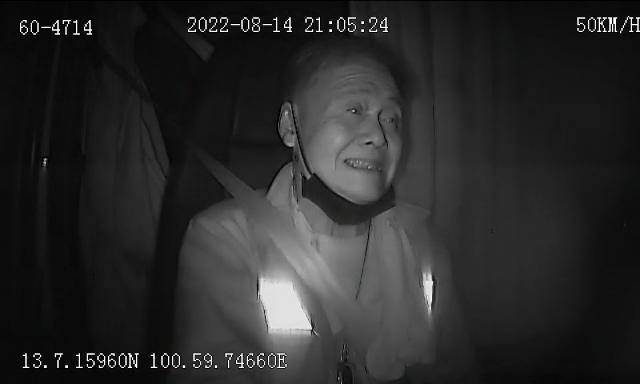SafeDriving: (377, 102, 403, 132), (340, 96, 369, 122)
Seatbelt: (178, 136, 406, 384)
